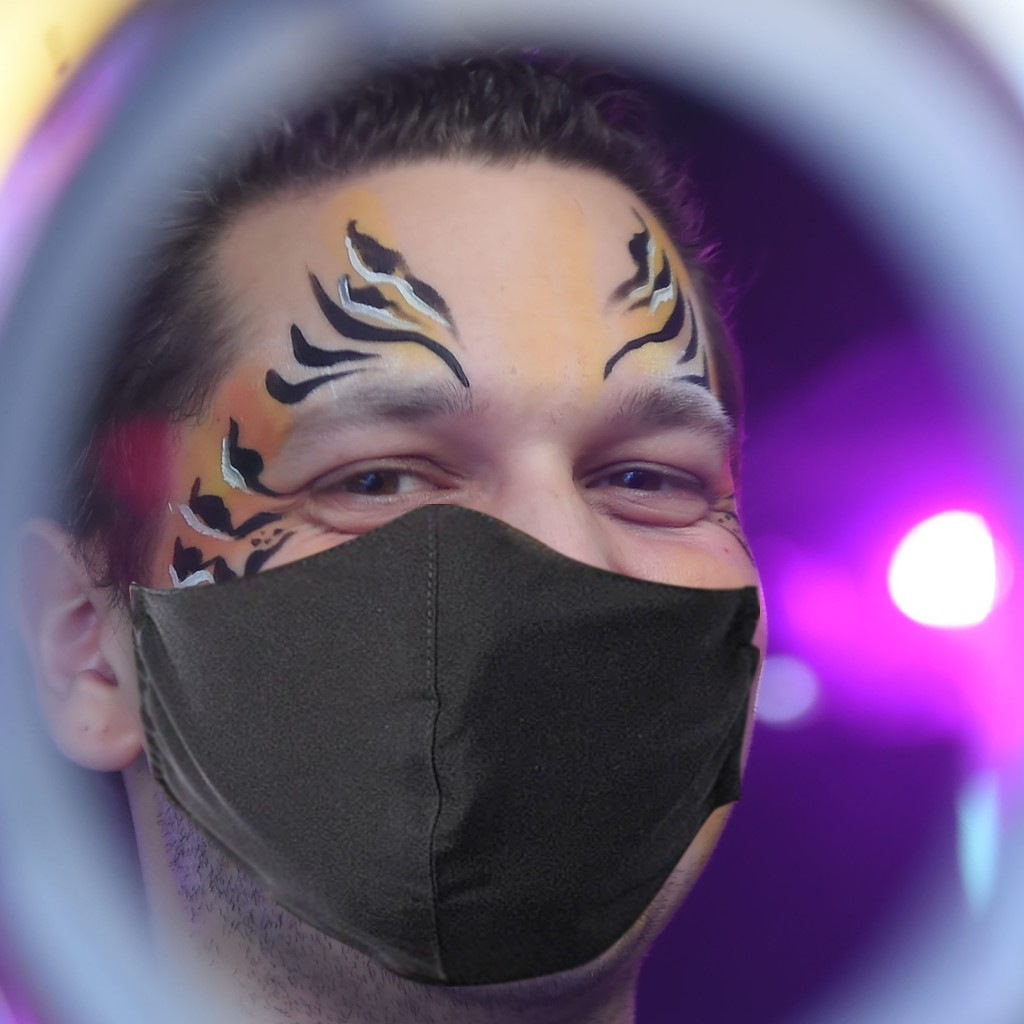con_mascara: (68, 103, 767, 941)
